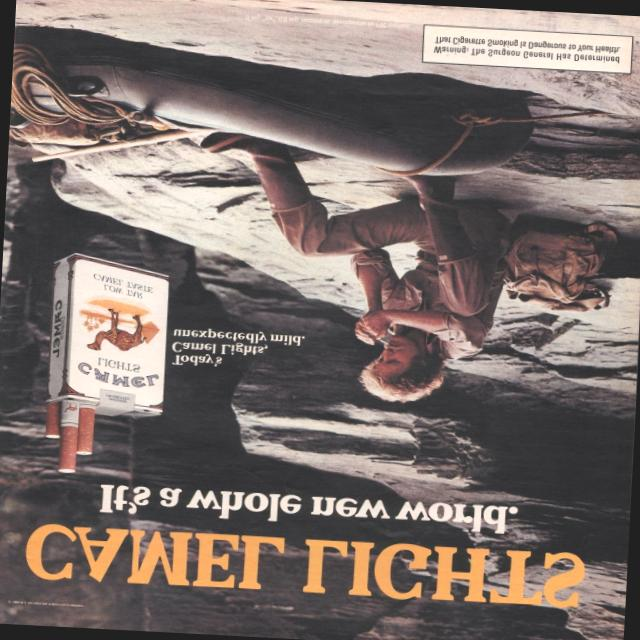cigarette: (379, 340, 390, 346)
